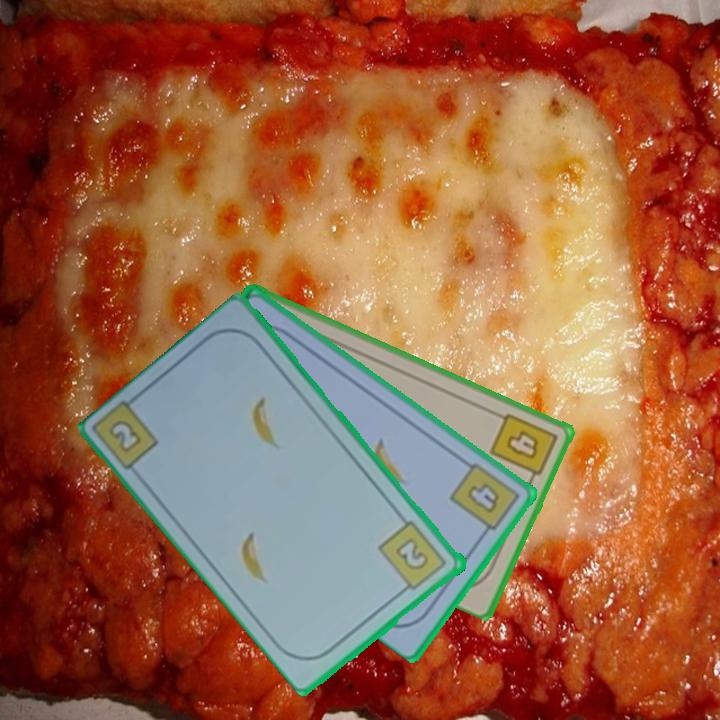2b: (375, 517, 451, 597), (105, 416, 145, 456)
4b: (446, 459, 523, 541), (486, 409, 561, 487)
